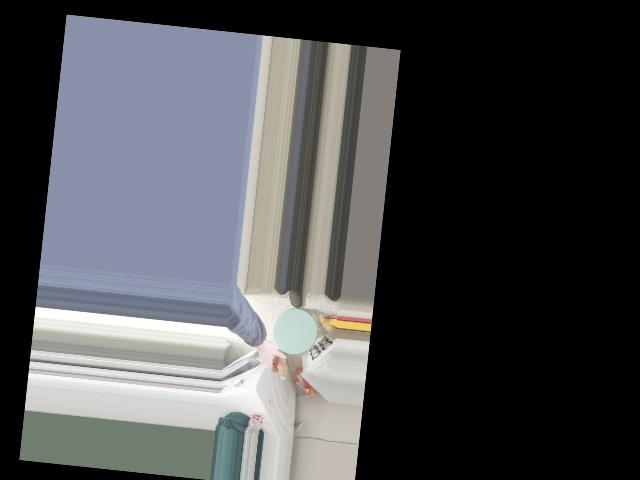sweet_potato: (265, 341, 289, 379)
